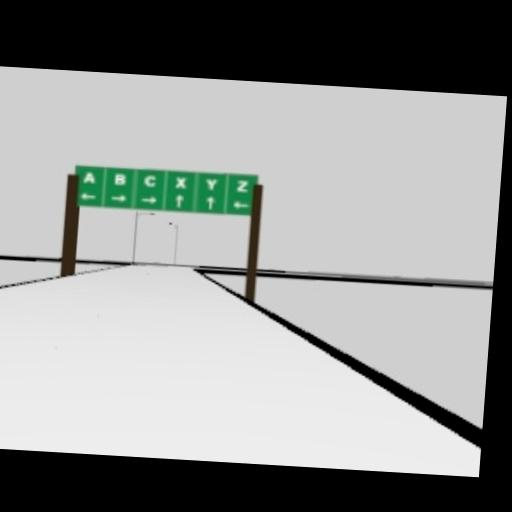A: (81, 171, 96, 183)
B: (112, 172, 127, 185)
C: (142, 172, 157, 187)
Left: (231, 200, 249, 208), (78, 191, 96, 199)
Right: (109, 193, 127, 201), (140, 195, 156, 203)
Straight: (172, 193, 184, 208), (205, 195, 215, 210)
X: (174, 174, 187, 187)
Y: (205, 176, 216, 189)
Z: (236, 178, 249, 192)
